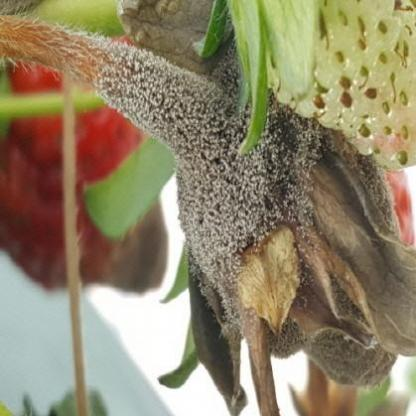Strawberry_Gray_Mold: (73, 28, 415, 416)
